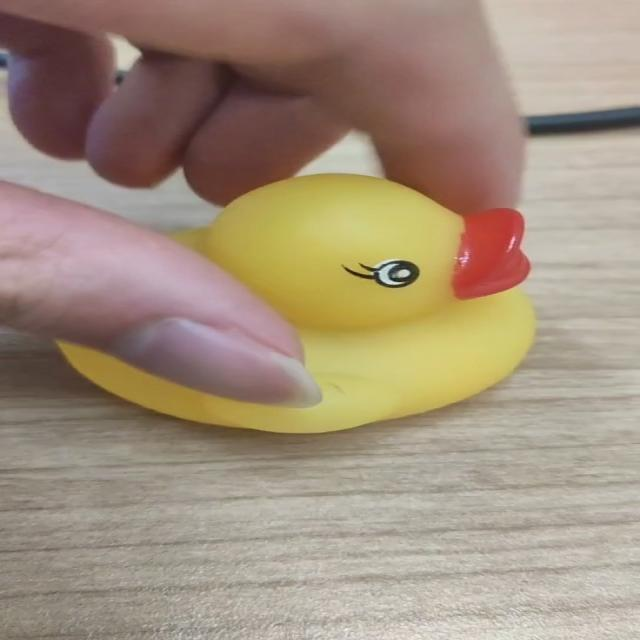rubber-duck: (58, 173, 533, 431)
